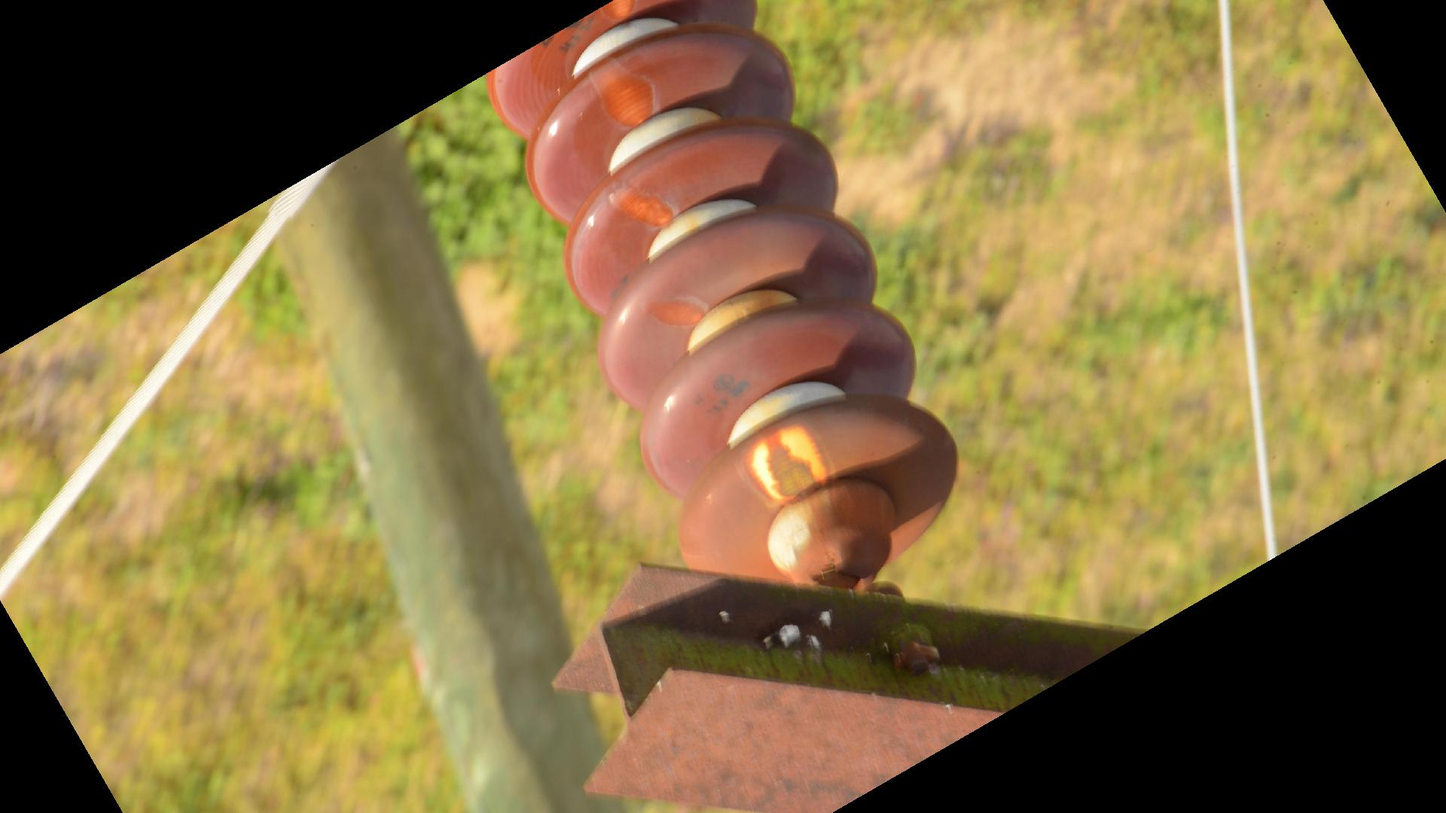insulator: (480, 1, 966, 583)
insulator_flashover: (744, 422, 832, 505), (586, 59, 657, 130), (607, 183, 676, 232), (641, 295, 709, 331)
